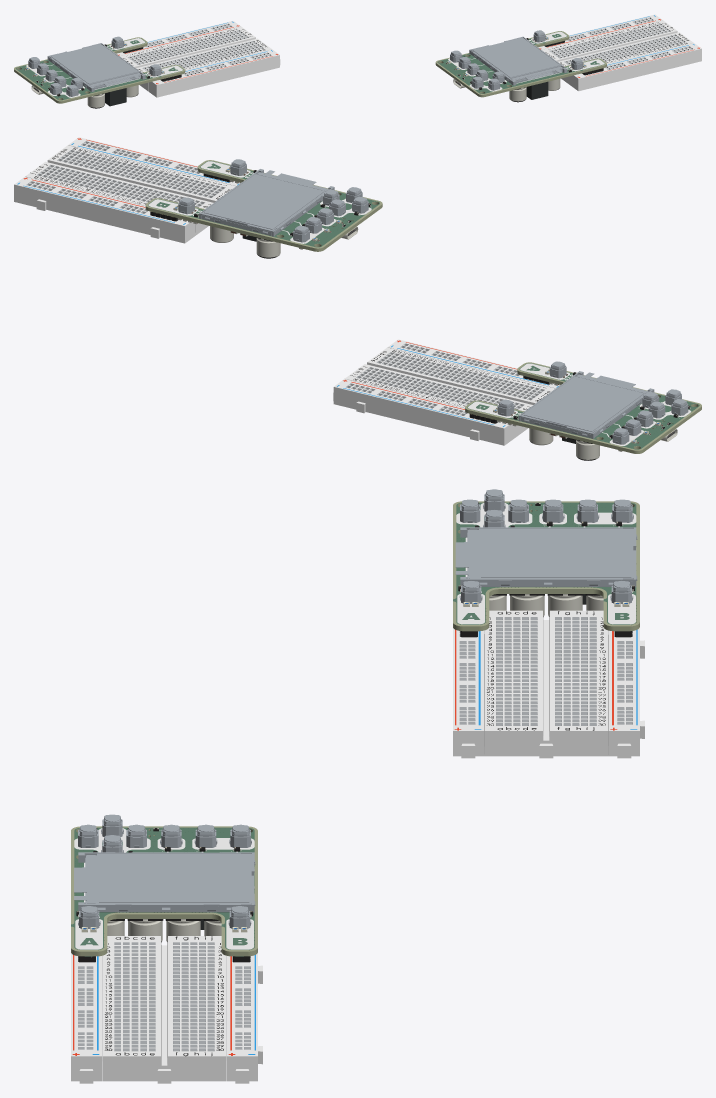
3 renders of one model, top to bottom at view 1: azimuth 30°, elevation 25°; view 2: azimuth 150°, elevation 25°; view 3: azimuth 270°, elevation 25°, orthographic. The views are drawn at different scales.
Visible parts, largest first — view 1: breadboard_power_rail_0 (×2), Cut (×2), mini_PCB (×2), mini_soldermask (×2), mini_silkscreen (×2), Coilcraft-XAL1016 (×2), CP_Elec_10x008 (×2), breadboard_center (×2); view 2: breadboard_power_rail_0 (×2), Cut (×2), mini_PCB (×2), mini_soldermask (×2), mini_silkscreen (×2); view 3: breadboard_power_rail_0 (×2), Cut (×2), mini_PCB (×2), mini_soldermask (×2), mini_silkscreen (×2).
Part boxes in pixels (left/top/right/bottom): breadboard_power_rail_0 (×2): left=116, top=14, right=701, bottom=97; Cut (×2): left=47, top=36, right=567, bottom=91; mini_PCB (×2): left=14, top=31, right=606, bottom=103; mini_soldermask (×2): left=15, top=31, right=604, bottom=100; mini_silkscreen (×2): left=26, top=31, right=604, bottom=97; Coilcraft-XAL1016 (×2): left=105, top=81, right=548, bottom=106; CP_Elec_10x008 (×2): left=87, top=86, right=529, bottom=108; breadboard_center (×2): left=123, top=22, right=688, bottom=72; breadboard_power_rail_0 (×2): left=14, top=137, right=559, bottom=445; Cut (×2): left=199, top=169, right=654, bottom=438; mini_PCB (×2): left=145, top=160, right=701, bottom=453; mini_soldermask (×2): left=148, top=161, right=699, bottom=449; mini_silkscreen (×2): left=148, top=161, right=691, bottom=445; breadboard_power_rail_0 (×2): left=71, top=610, right=644, bottom=1083; Cut (×2): left=74, top=527, right=637, bottom=912; mini_PCB (×2): left=71, top=501, right=639, bottom=956; mini_soldermask (×2): left=71, top=502, right=636, bottom=949; mini_silkscreen (×2): left=74, top=503, right=636, bottom=949.
Bounding box in the file's own units: 0.3666 × 0.0197 × 0.1657.
